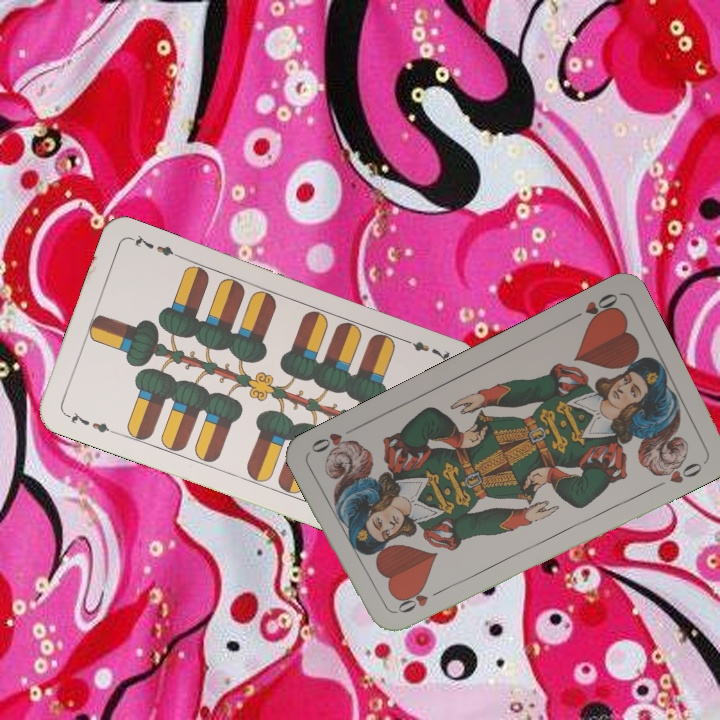E7: (397, 334, 454, 365), (61, 407, 118, 437)
HO: (566, 289, 621, 326), (390, 585, 446, 617)
